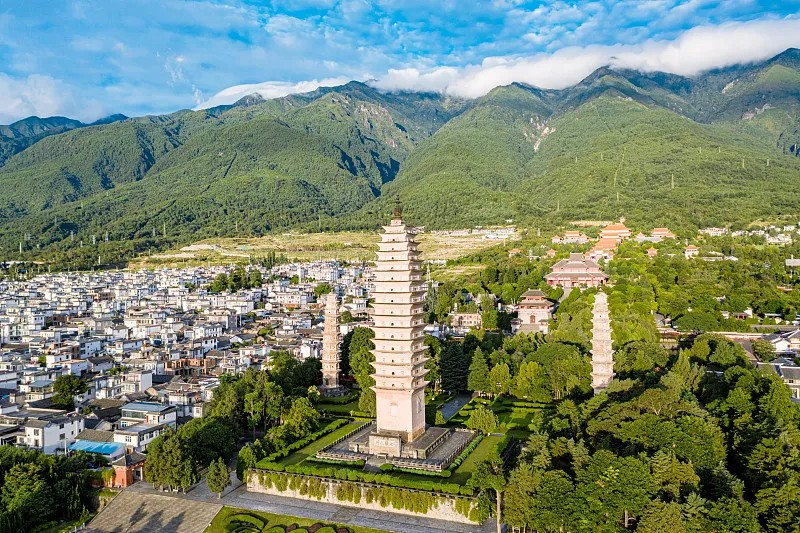ThreePagoda: (368, 192, 430, 442)
